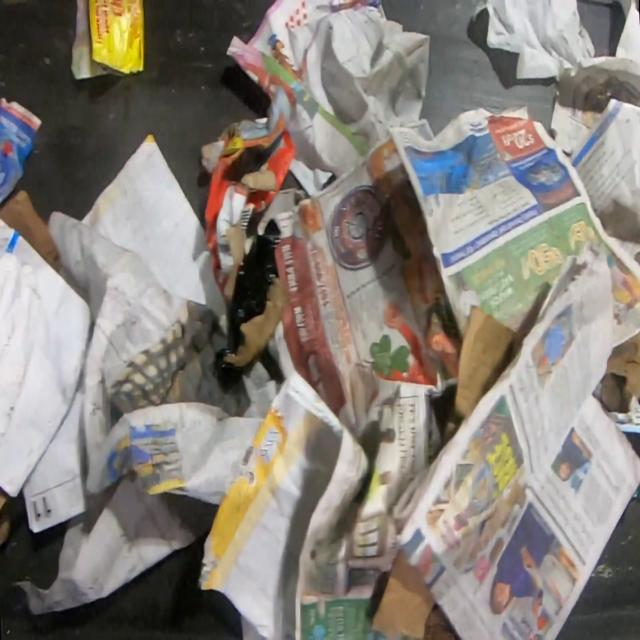cardboard: (199, 86, 310, 304), (366, 548, 460, 640), (451, 303, 520, 422), (223, 275, 288, 367), (0, 187, 61, 273), (598, 328, 640, 413), (0, 484, 15, 547)
soft_plastic: (215, 218, 282, 374)
